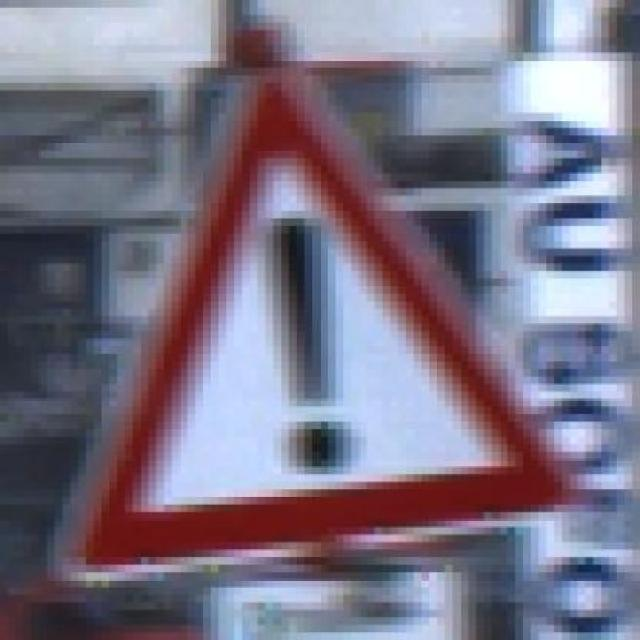Attention Please-: (55, 52, 570, 580)
